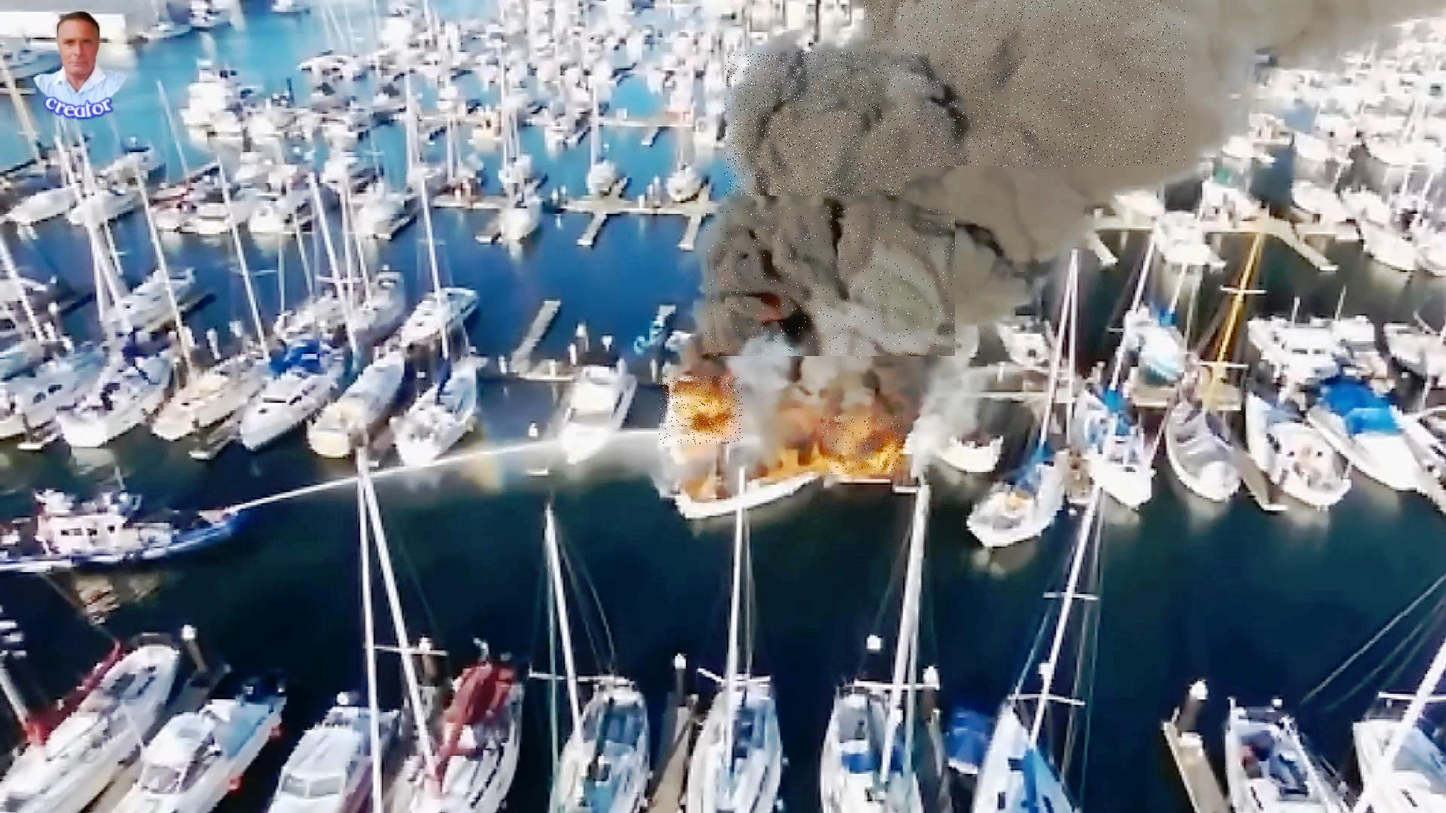fire: (660, 377, 743, 444), (823, 416, 902, 474)
smoke: (865, 0, 1188, 168), (706, 207, 957, 358), (725, 52, 910, 196)
